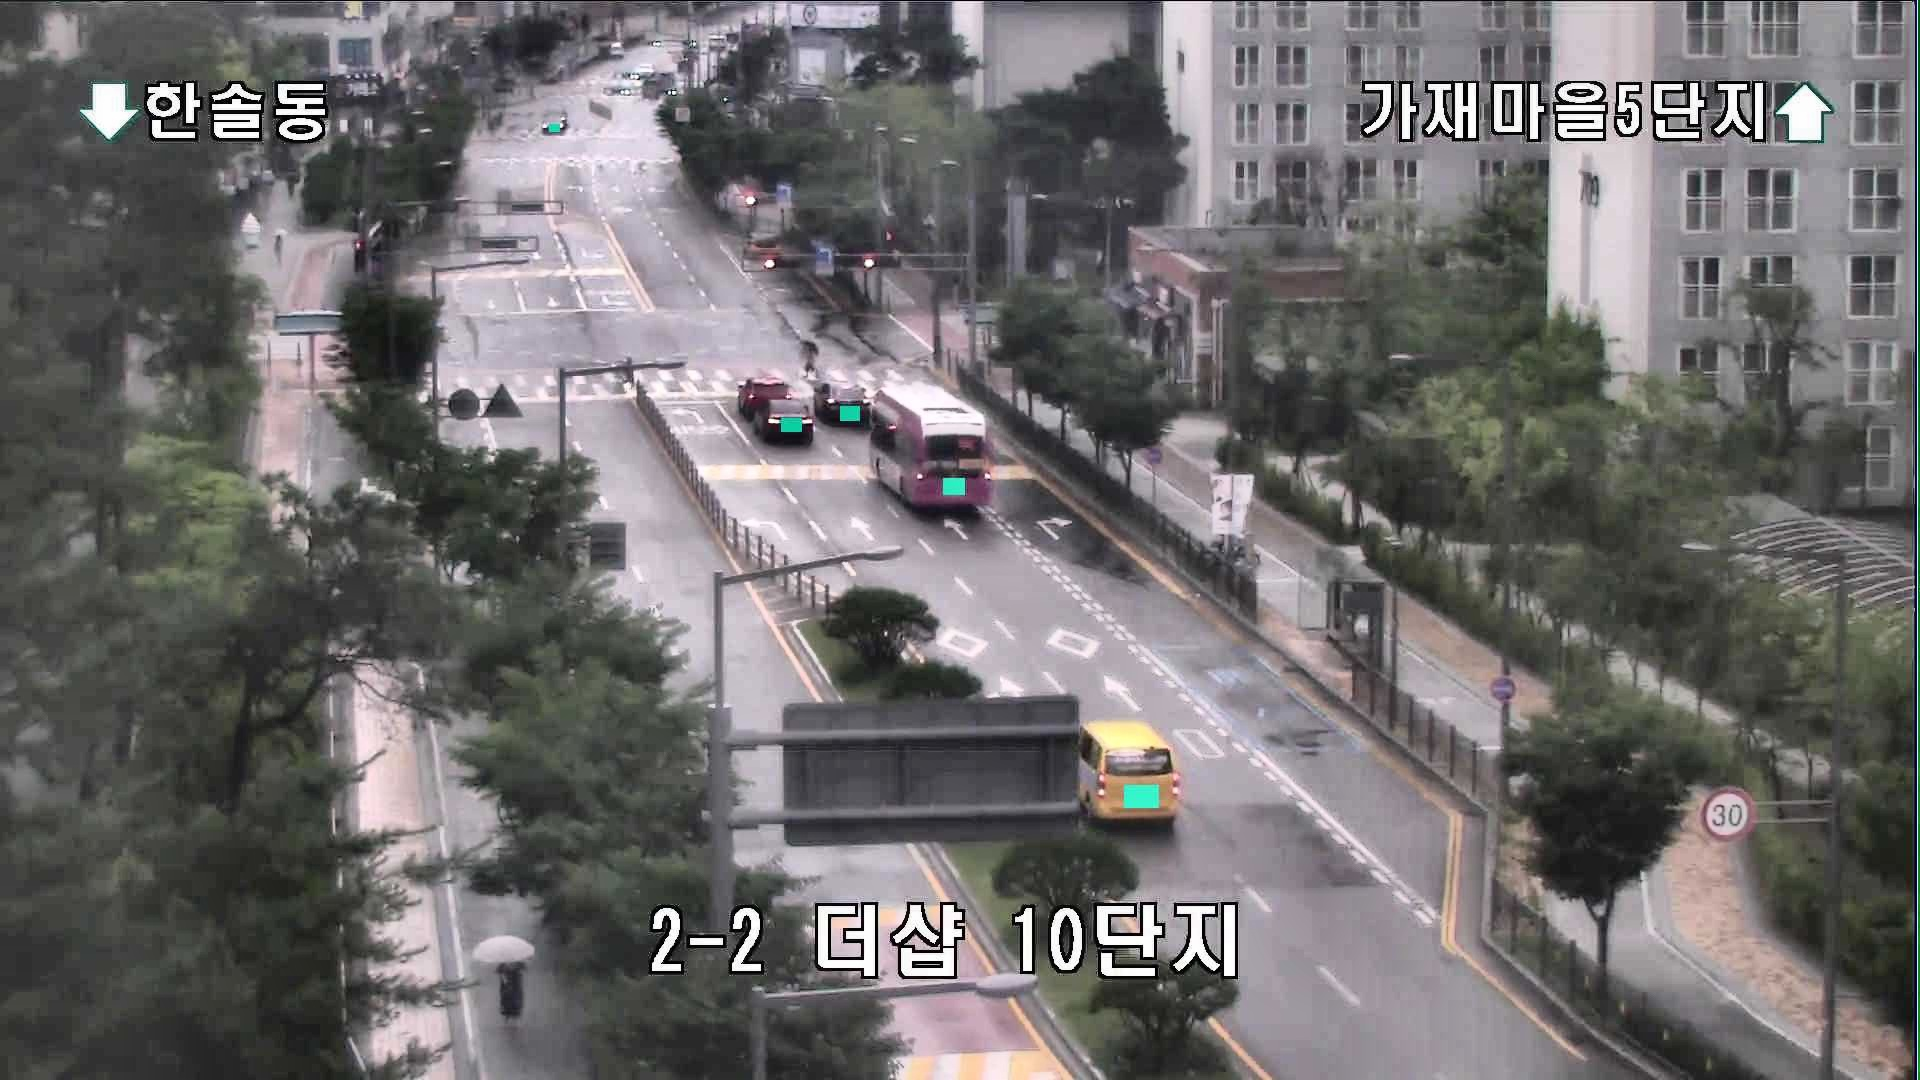um_crosswalk: (796, 336, 822, 380)
um_sidewalk: (472, 934, 539, 1038), (272, 229, 290, 272)
